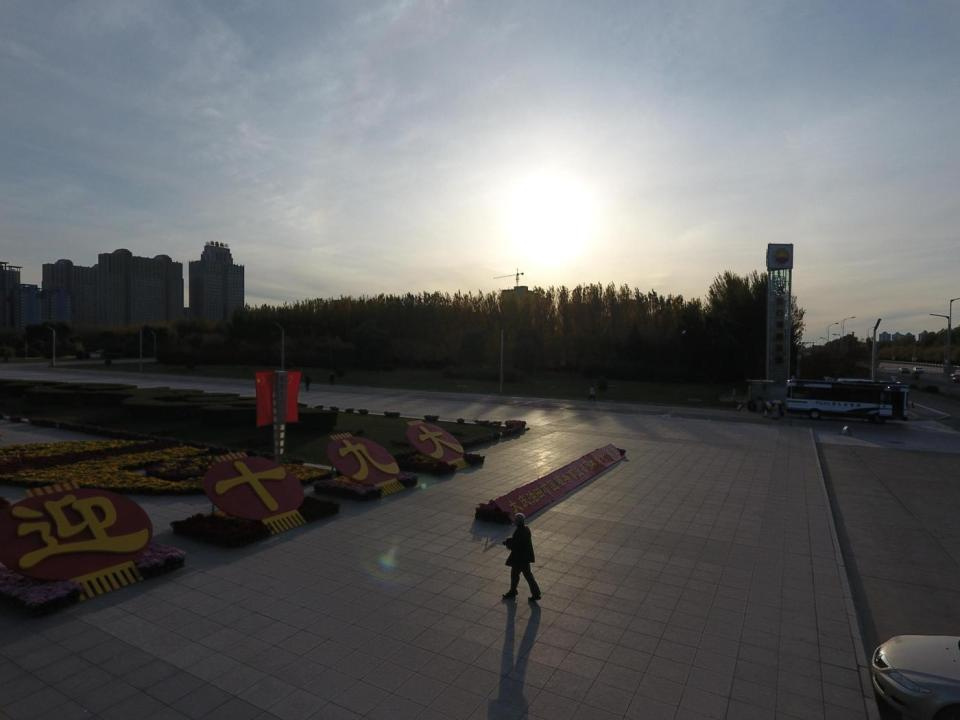bus: (785, 376, 915, 424)
car: (870, 630, 960, 718), (947, 373, 960, 382), (912, 367, 925, 374), (898, 367, 910, 374)
